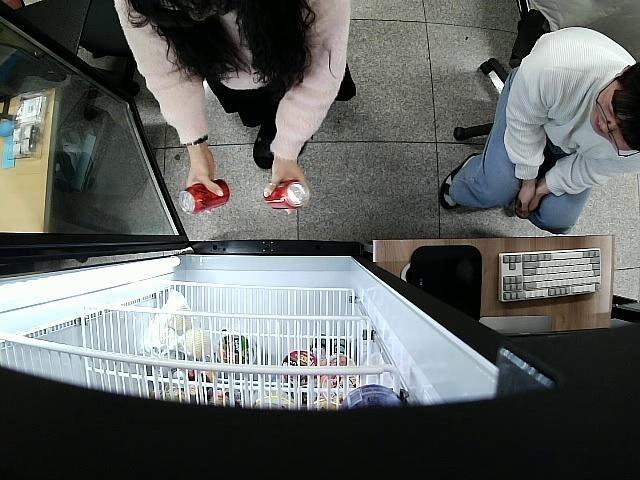11_cocaColaZero: (180, 180, 229, 214), (263, 180, 310, 210)
